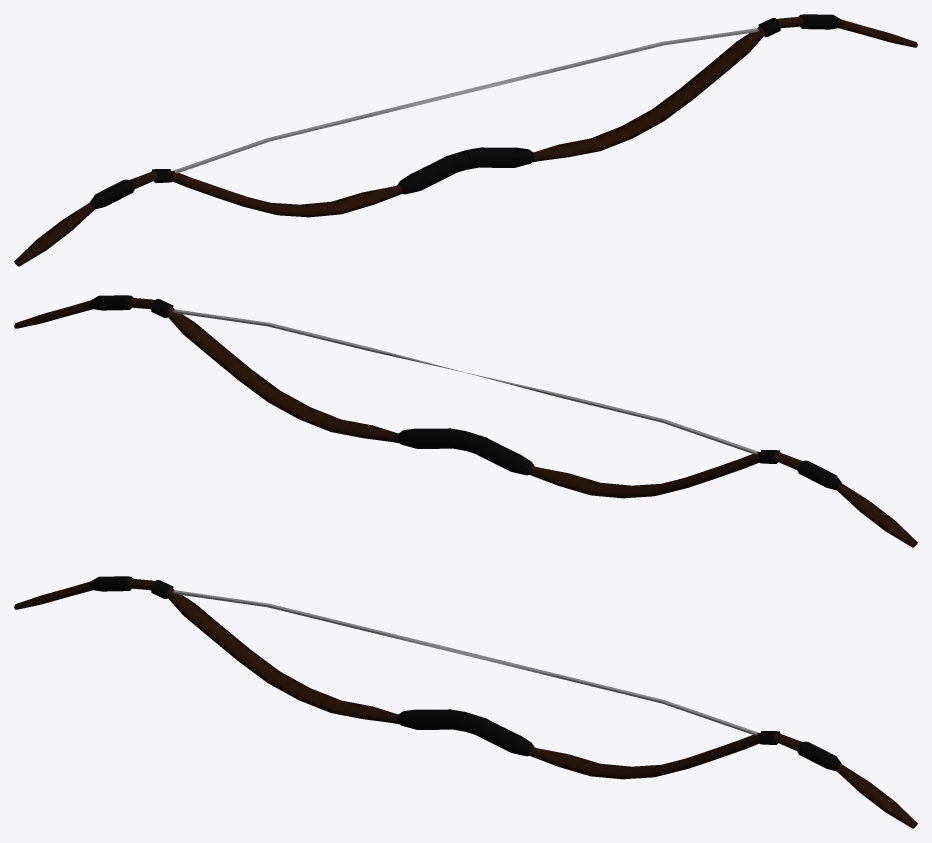
Rendered from bow.FBX.
3 renders of one model, top to bottom at view 1: azimuth 30°, elevation 25°; view 2: azimuth 150°, elevation 25°; view 3: azimuth 330°, elevation 25°, orthographic.
Visible parts, largest first — view 1: Bow; view 2: Bow; view 3: Bow.
Part boxes in pixels (box(x1,y1,x2,y2)): Bow: box(14, 14, 917, 266); Bow: box(14, 295, 917, 547); Bow: box(14, 576, 917, 828).
Bounding box in the file's own units: 191 × 18.37 × 3.83.
